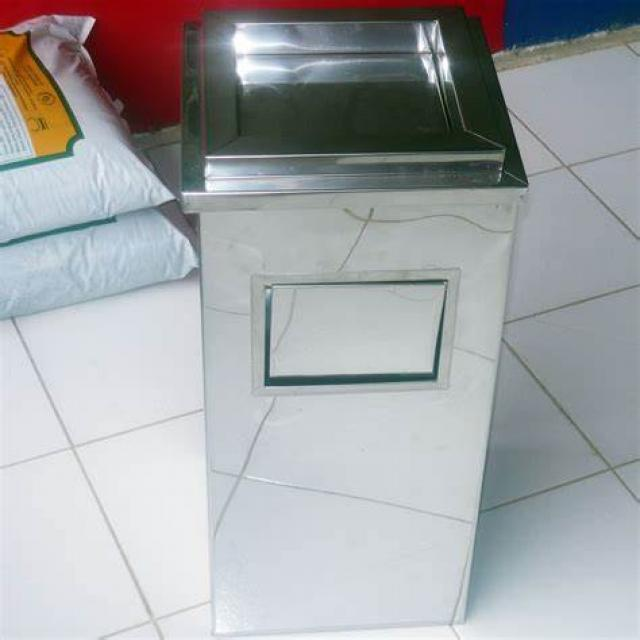garbage container: (162, 0, 521, 636)
